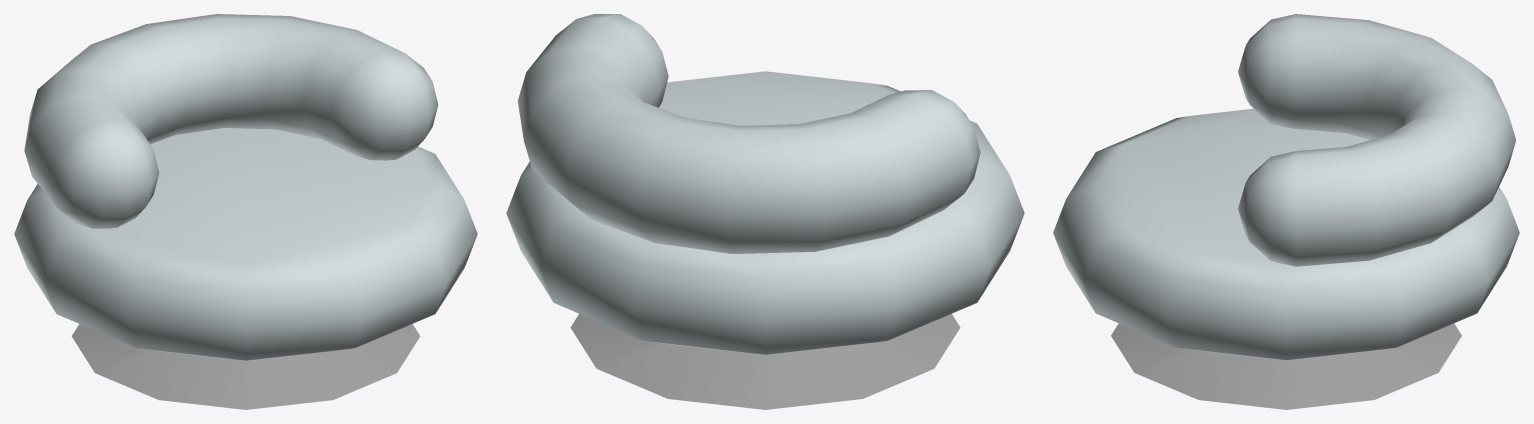
File: armchair_019.glb
The picture shows the model from 3 angles, left to right: view 1: azimuth 30°, elevation 25°; view 2: azimuth 150°, elevation 25°; view 3: azimuth 270°, elevation 25°; orthographic projection. The views are drawn at different scales.
Parts seen in each view (by area): view 1: armchair_019; view 2: armchair_019; view 3: armchair_019.
Part boxes in pixels (x1,y1,x2,y2): armchair_019: (14, 14, 477, 409); armchair_019: (506, 14, 1024, 409); armchair_019: (1053, 14, 1519, 409).
Size of the model in its own units: 1.42 by 0.8324 by 1.42.
1 material, 1 textured.
